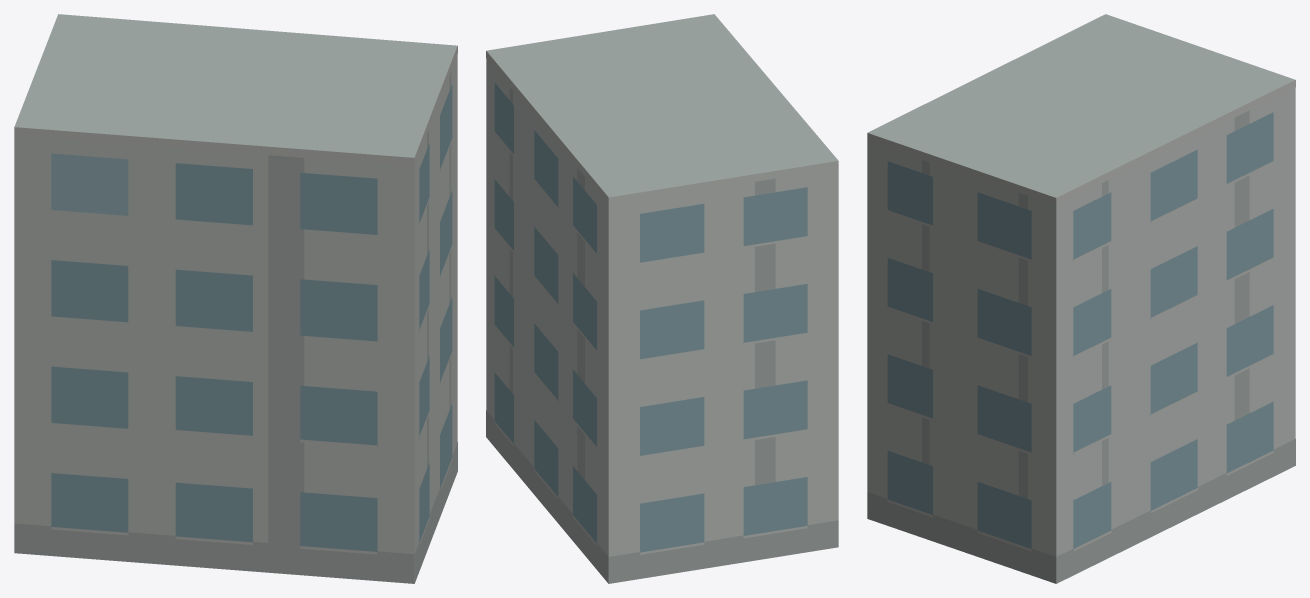
File: survey-upis-32744386.glb
The picture shows the model from 3 angles, left to right: view 1: azimuth 30°, elevation 25°; view 2: azimuth 150°, elevation 25°; view 3: azimuth 270°, elevation 25°; orthographic projection. The views are drawn at different scales.
Visible parts, largest first — view 1: survey-upis-32744386.tmp; view 2: survey-upis-32744386.tmp; view 3: survey-upis-32744386.tmp.
Boxes of the visible parts, x1,y1,x2,y2 form: survey-upis-32744386.tmp: [14, 14, 457, 583]; survey-upis-32744386.tmp: [486, 14, 838, 583]; survey-upis-32744386.tmp: [867, 14, 1295, 583].
Bounding box in the file's own units: 12.48 × 12.2 × 12.28.
